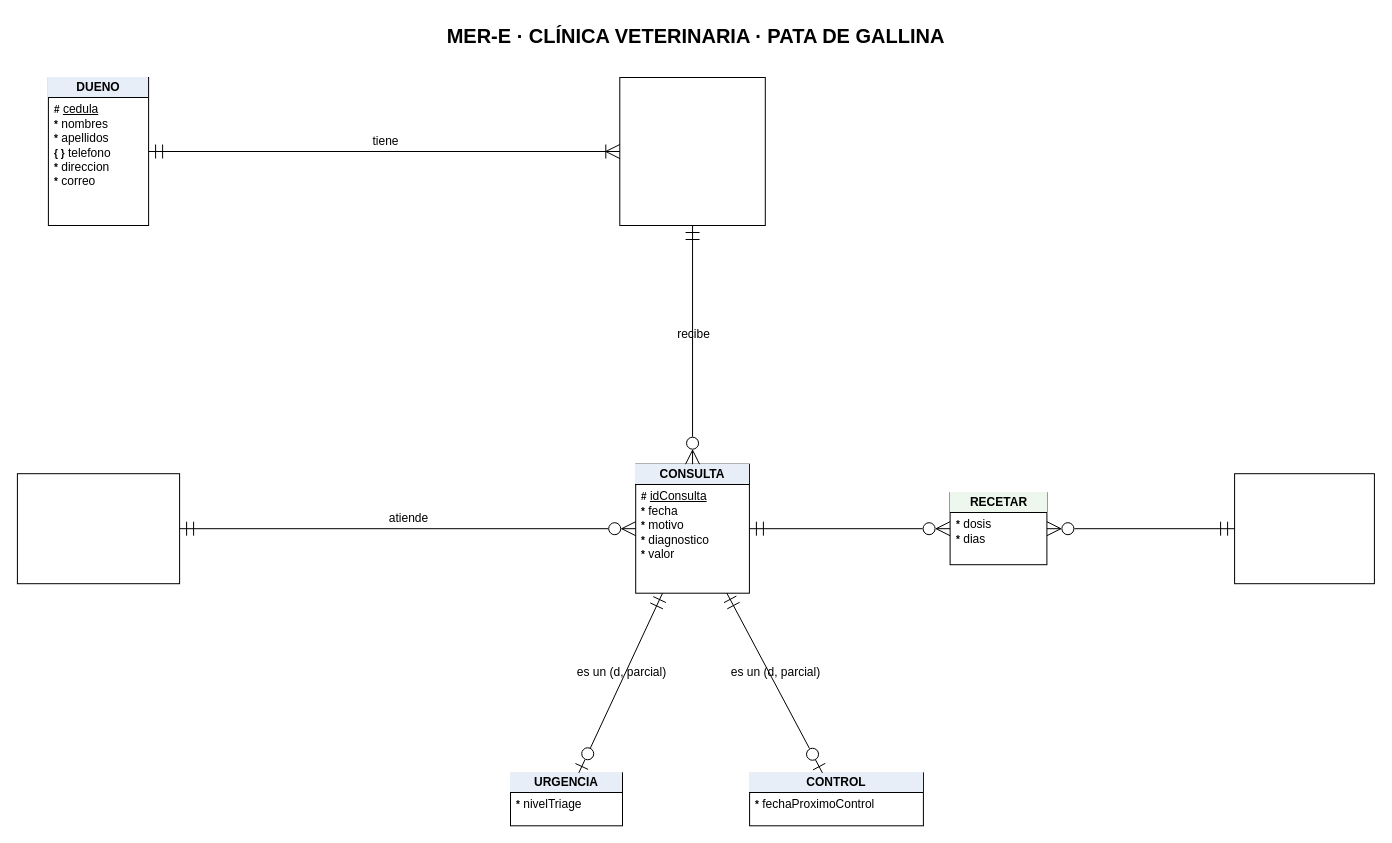
Image size: 1392x843. Some labels were removed from this diagram. Each missing label, with the box of its shape:
MASCOTA ~ numero * nombre * especie * raza * fechaNacimiento / edad: (619, 76, 765, 226)
MEDICAMENTO # codigo * nombre * presentacion * precio: (1234, 473, 1374, 584)
VETERINARIO # idVeterinario * nombre * tarjetaProfesional * especialidad: (16, 473, 180, 584)
